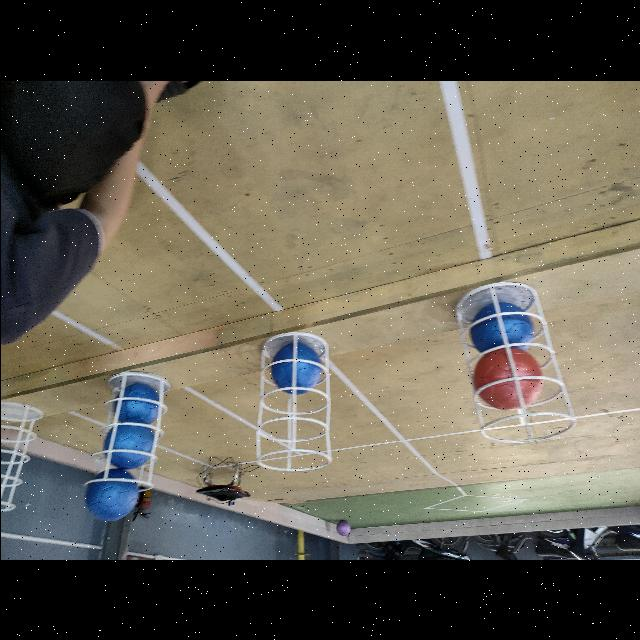B: (466, 304, 536, 351), (267, 340, 323, 396), (84, 468, 136, 520), (102, 423, 156, 467), (114, 384, 160, 424)
R: (474, 350, 542, 414)
